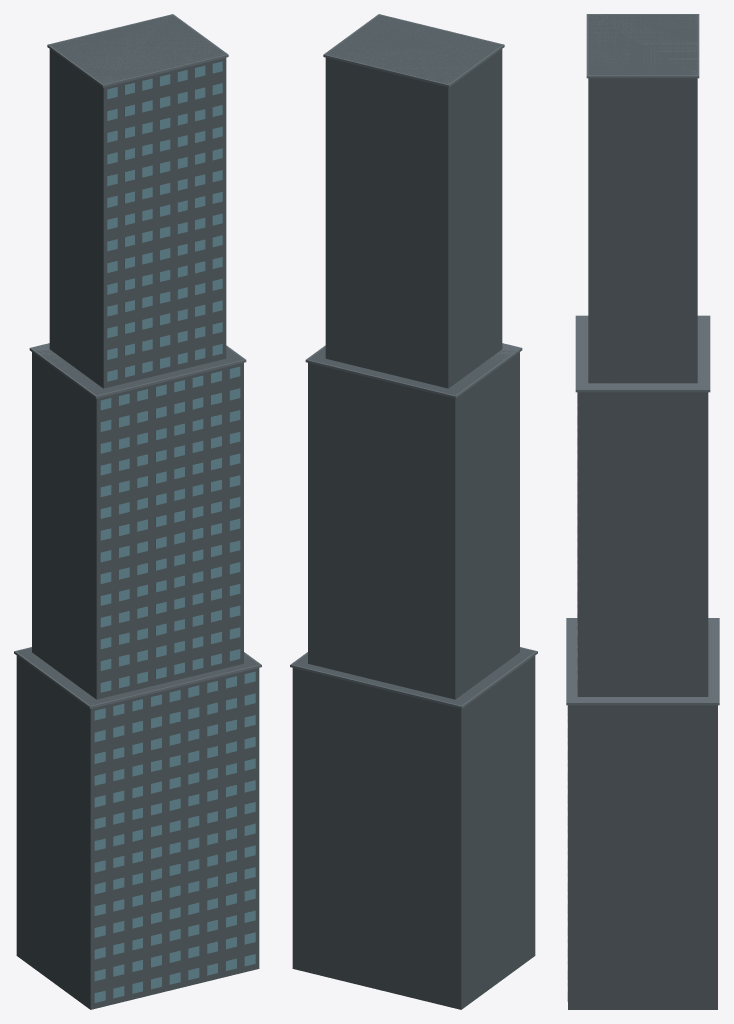
3 renders of one model, left to right at view 1: azimuth 30°, elevation 25°; view 2: azimuth 150°, elevation 25°; view 3: azimuth 270°, elevation 25°, orthographic.
Visible parts, largest first — view 1: worldgen; view 2: worldgen; view 3: worldgen.
Boxes of the visible parts, left/top/right/bottom form: worldgen: left=14, top=14, right=261, bottom=1009; worldgen: left=290, top=14, right=537, bottom=1009; worldgen: left=566, top=14, right=719, bottom=1009.
Bounding box in the file's own units: 55.99 × 284 × 42.78.
